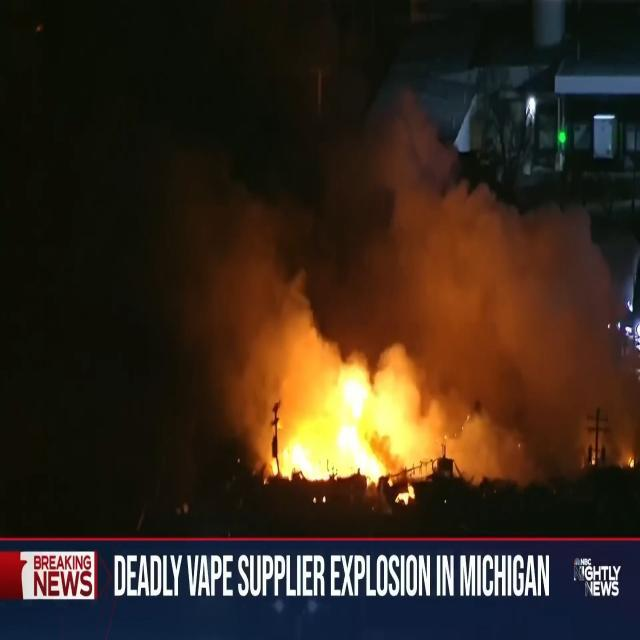fire: (192, 199, 554, 493)
